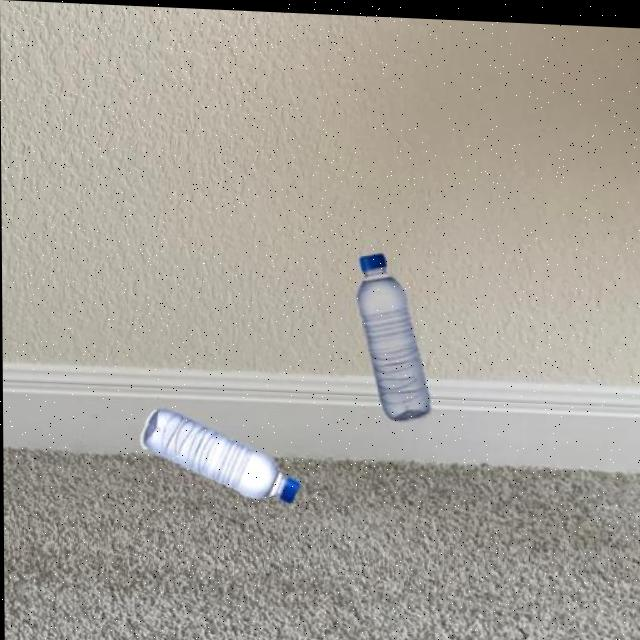bottle: (137, 403, 299, 503), (354, 247, 430, 418)
